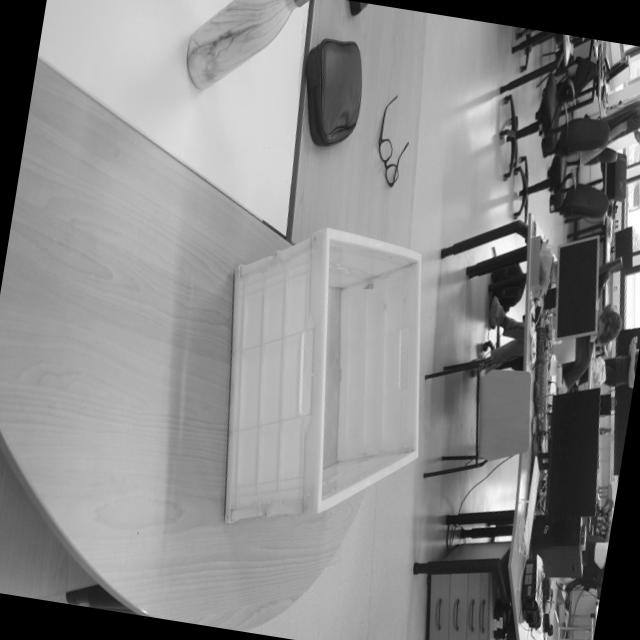box: (186, 210, 461, 584)
